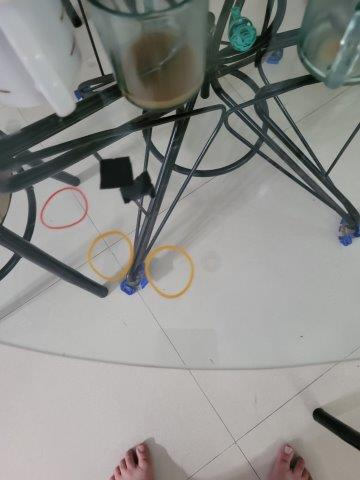karet: (143, 245, 195, 301), (87, 231, 134, 283), (37, 187, 89, 228)
